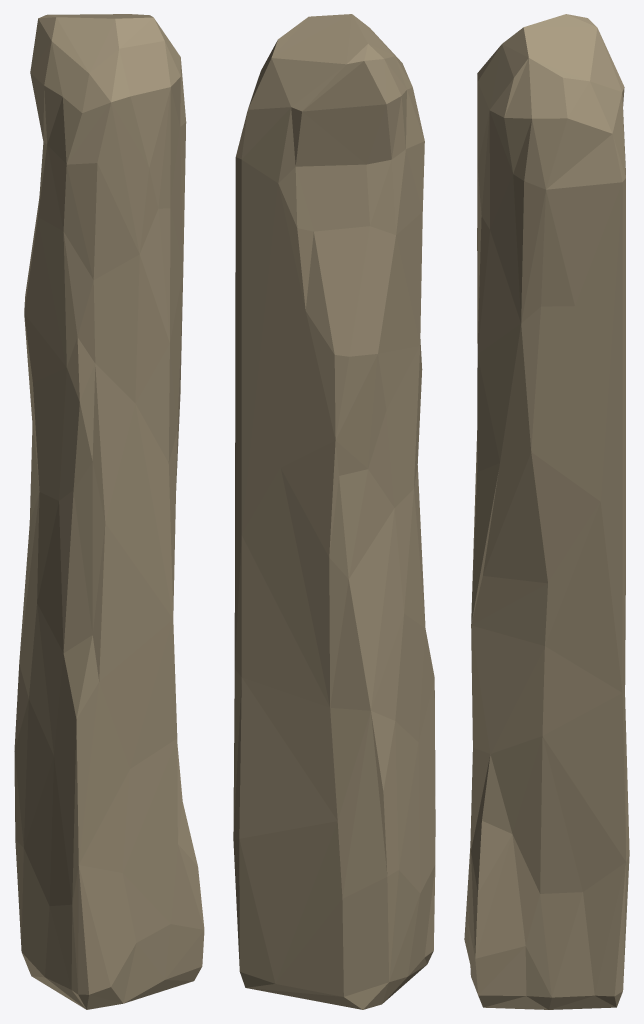
The model's file is SM_pillar_large_clay_01.fbx.
3 views of the same model, side by side, from view 1: azimuth 30°, elevation 25°; view 2: azimuth 150°, elevation 25°; view 3: azimuth 270°, elevation 25° (orthographic).
Visible parts, largest first — view 1: Object174; view 2: Object174; view 3: Object174.
Boxes of the visible parts, <box> form: Object174: <box>14,14,204,1009</box>; Object174: <box>233,14,435,1009</box>; Object174: <box>464,14,629,1009</box>.
Bounding box in the file's own units: 28.85 × 28.64 × 183.
